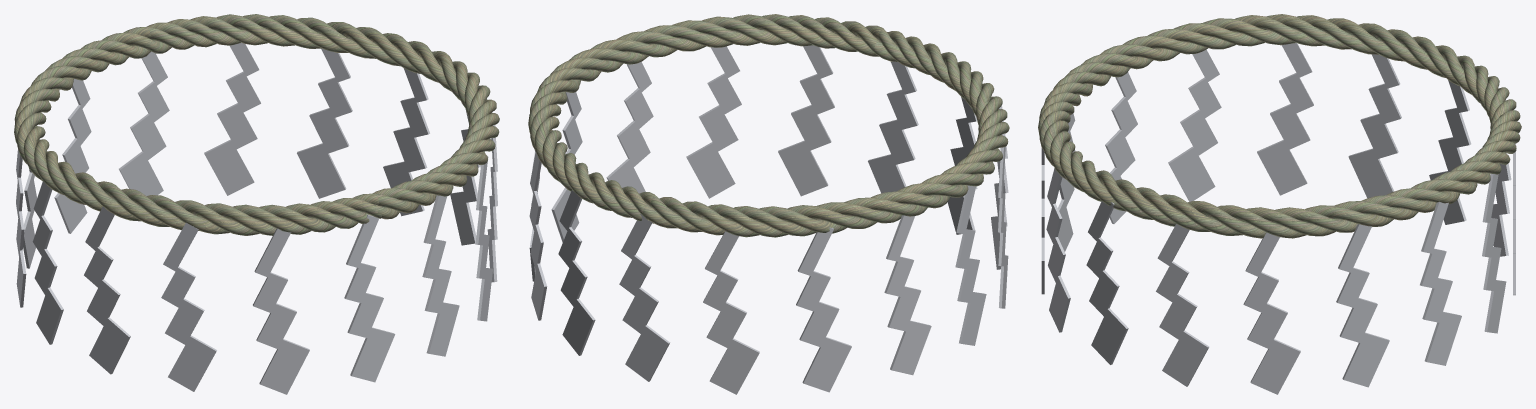
The model's file is M_shimenawa.fbx.
3 renders of one model, left to right at view 1: azimuth 30°, elevation 25°; view 2: azimuth 150°, elevation 25°; view 3: azimuth 270°, elevation 25°, orthographic.
Visible parts, largest first — view 1: M_shimenawa1; view 2: M_shimenawa1; view 3: M_shimenawa1.
Boxes of the visible parts, x1,y1,x2,y2 form: M_shimenawa1: (14,14,499,394); M_shimenawa1: (528,14,1009,394); M_shimenawa1: (1038,14,1521,394).
Size of the model in its own units: 6.41 by 2.64 by 6.34.
Materials: 2 (1 with a texture image).
